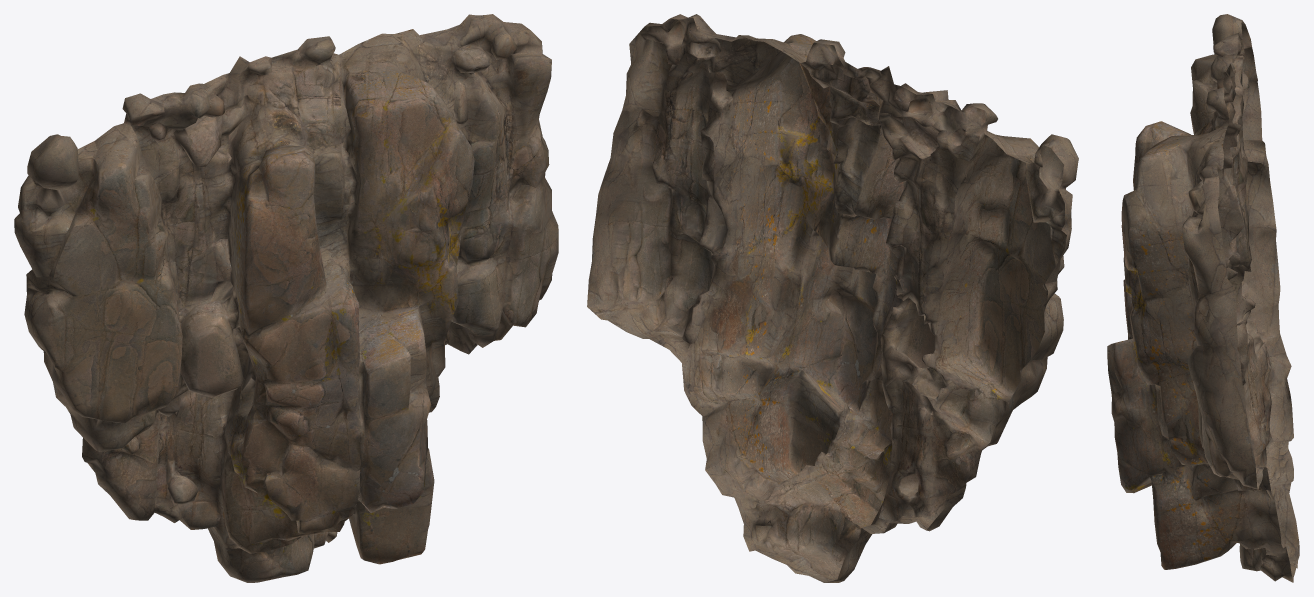
File: rock01.fbx
3 renders of one model, left to right at view 1: azimuth 30°, elevation 25°; view 2: azimuth 150°, elevation 25°; view 3: azimuth 270°, elevation 25°, orthographic. The views are drawn at different scales.
Parts seen in each view (by area): view 1: rock01; view 2: rock01; view 3: rock01.
Part boxes in pixels (x1,y1,x2,y2): rock01: (14,14,558,582); rock01: (587,14,1078,582); rock01: (1107,14,1299,582).
Size of the model in its own units: 1148 by 1151 by 412.
